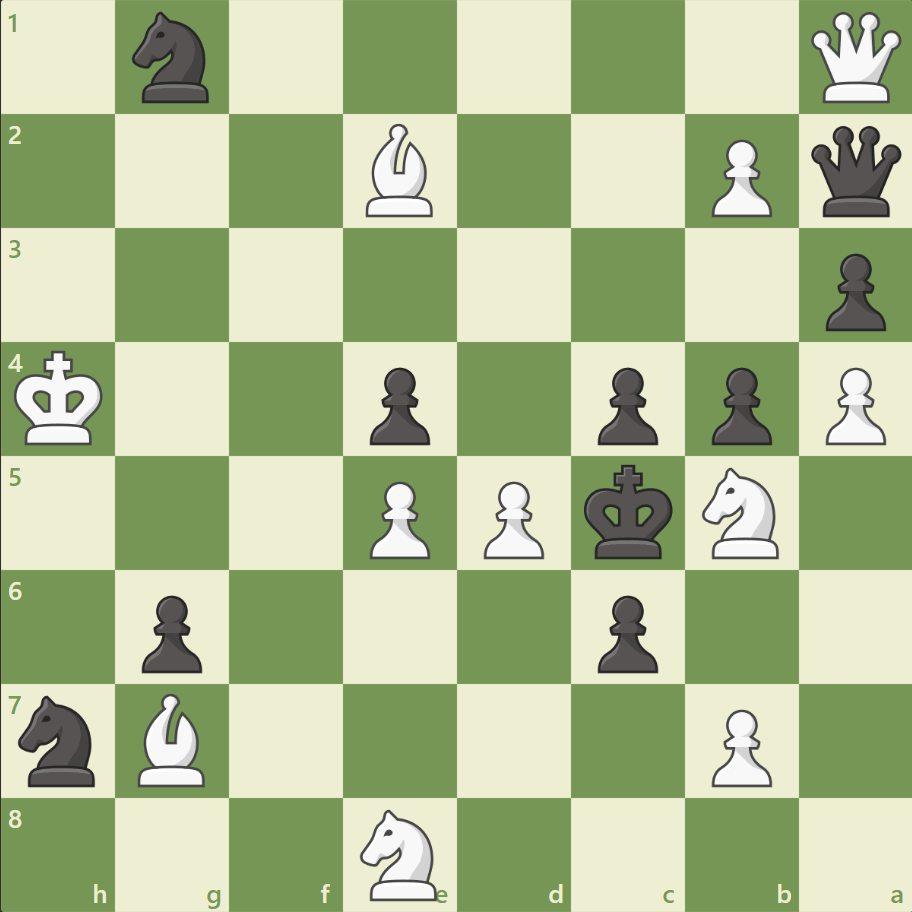B: (131, 687, 215, 790), (358, 120, 442, 222)
K: (11, 344, 111, 452)
N: (351, 802, 449, 904), (692, 461, 789, 564)
P: (701, 700, 776, 791), (474, 473, 549, 564), (701, 132, 776, 223), (361, 473, 435, 564), (815, 359, 889, 450)
Q: (805, 9, 904, 108)
k: (579, 458, 679, 566)
n: (124, 7, 222, 110), (11, 688, 108, 791)
p: (133, 586, 208, 677), (701, 359, 776, 450), (588, 586, 662, 677), (588, 359, 662, 450), (361, 359, 435, 450), (815, 246, 889, 337)
q: (805, 122, 904, 222)
